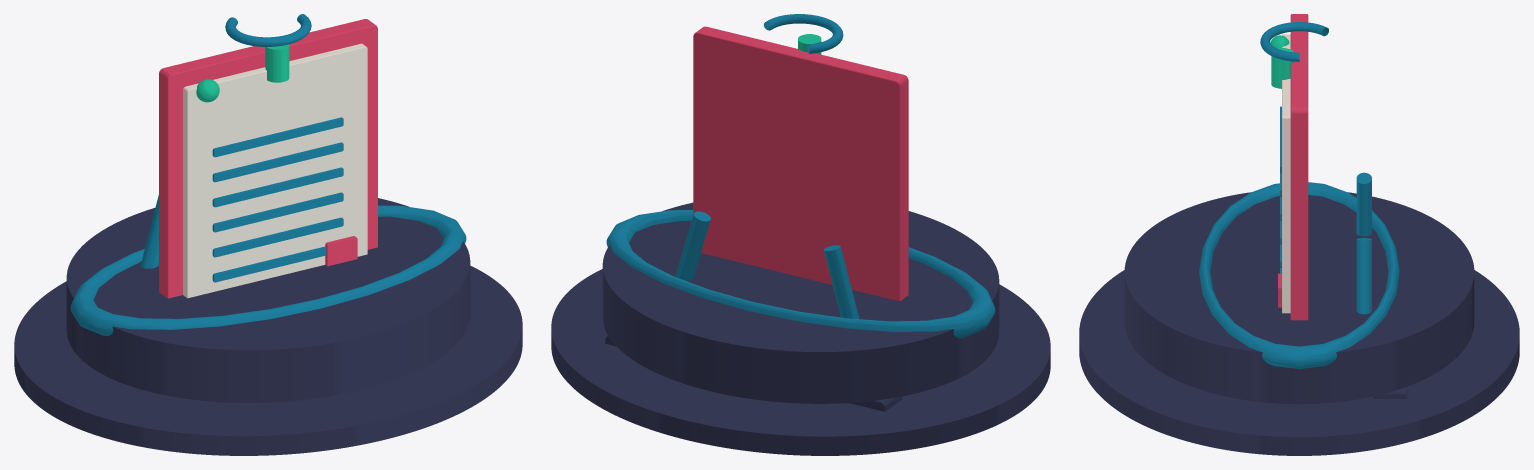
File: 0861_生活中的数学图鉴_聚合酶链式反应.glb
The picture shows the model from 3 angles, left to right: view 1: azimuth 30°, elevation 25°; view 2: azimuth 150°, elevation 25°; view 3: azimuth 270°, elevation 25°; orthographic projection. The views are drawn at different scales.
Parts seen in each view (by area): view 1: card_0861; view 2: card_0861; view 3: card_0861.
Boxes of the visible parts, x1,y1,x2,y2 form: card_0861: (14, 14, 522, 455); card_0861: (551, 14, 1050, 455); card_0861: (1079, 14, 1519, 455).
Size of the model in its own units: 1.42 by 1 by 1.27.
